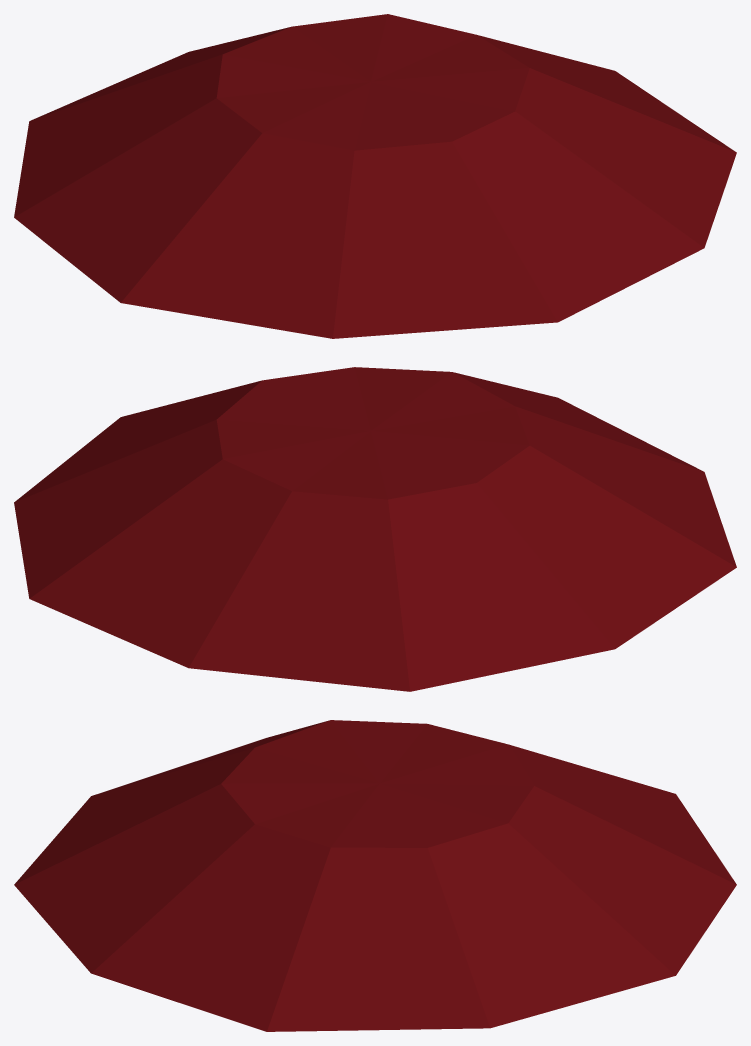
The model's file is AngryUFO.fbx.
3 renders of one model, top to bottom at view 1: azimuth 30°, elevation 25°; view 2: azimuth 150°, elevation 25°; view 3: azimuth 270°, elevation 25°, orthographic. The views are drawn at different scales.
Parts seen in each view (by area): view 1: Circle.001; view 2: Circle.001; view 3: Circle.001.
Part boxes in pixels (box(x1,y1,x2,y2)): Circle.001: box(14, 14, 736, 338); Circle.001: box(14, 367, 736, 691); Circle.001: box(14, 720, 736, 1031).
Size of the model in its own units: 390 by 74.59 by 405.
